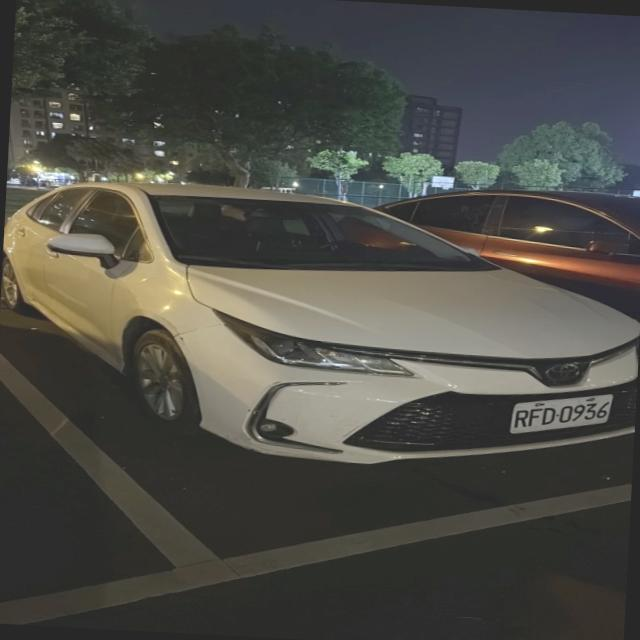license plate: (512, 395, 612, 433)
wheel: (129, 329, 198, 433)
